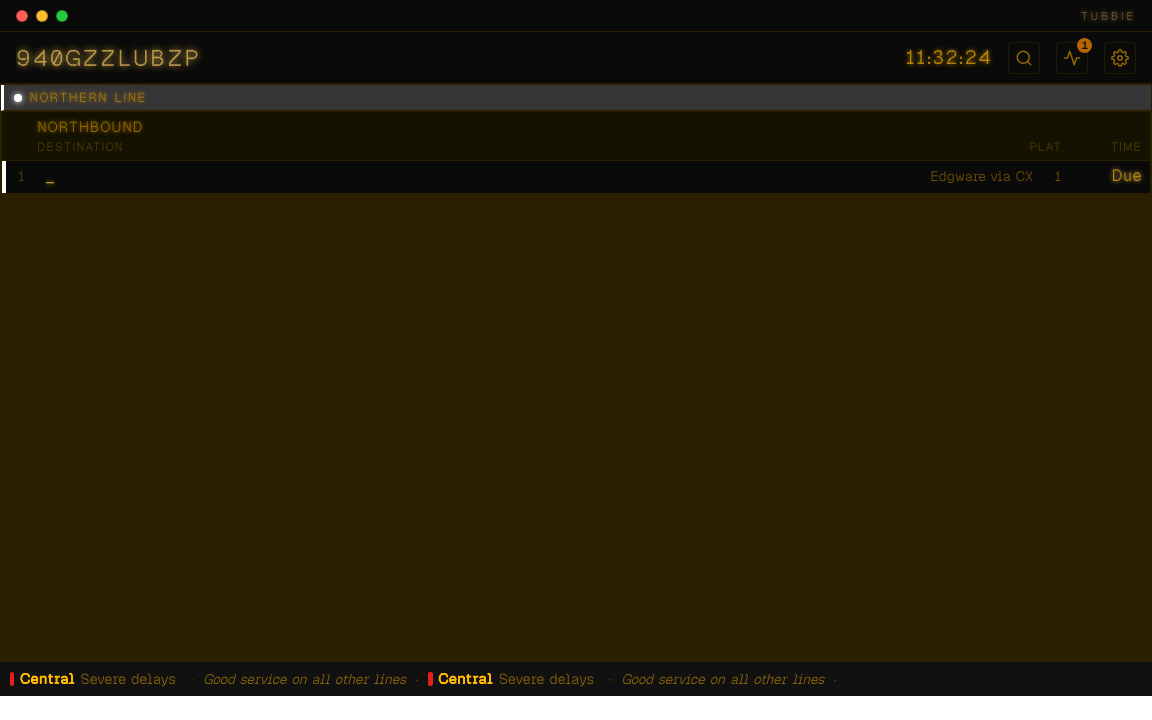
it: Board — Status view toggle › toggles the body from arrivals to the Status view and back
What coordinates should you click on to do the following:
click the button named "show service status"
I would click on:
 (1072, 58)
Its box is [1056,42,1088,74].
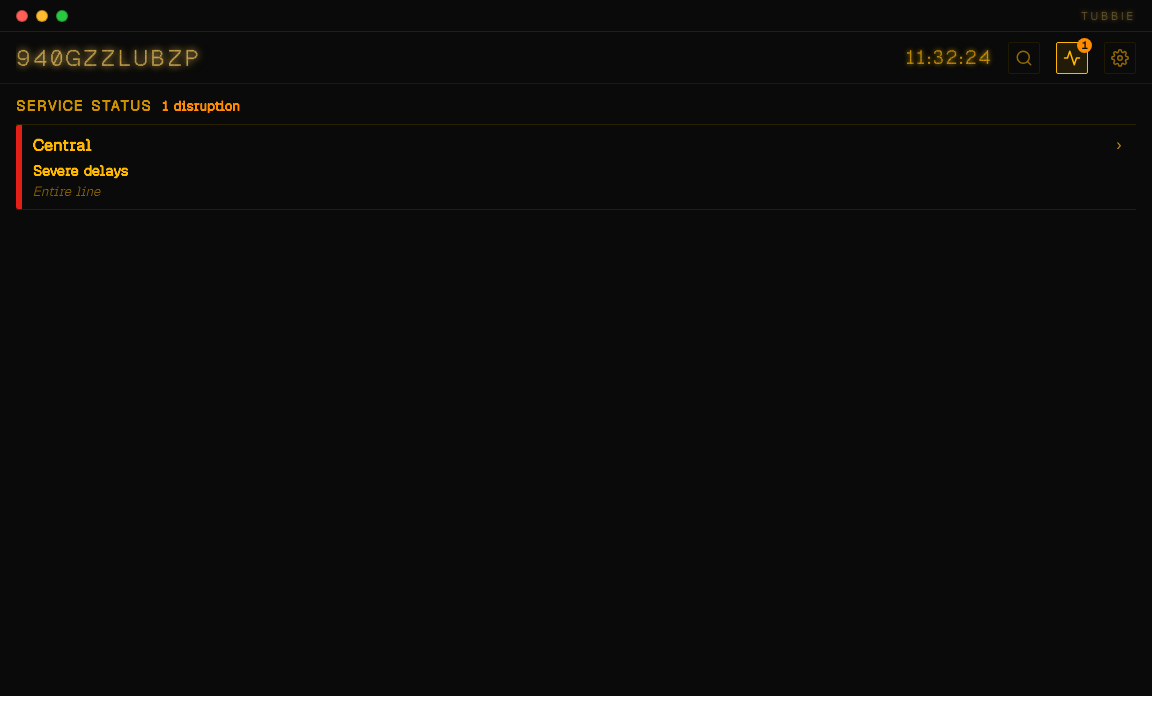
expect the element "Service status" is shown: met
# Toggle back.
What coordinates should you click on to do the following:
click the button named "hide service status"
I would click on:
 (1072, 58)
Its box is [1056,42,1088,74].
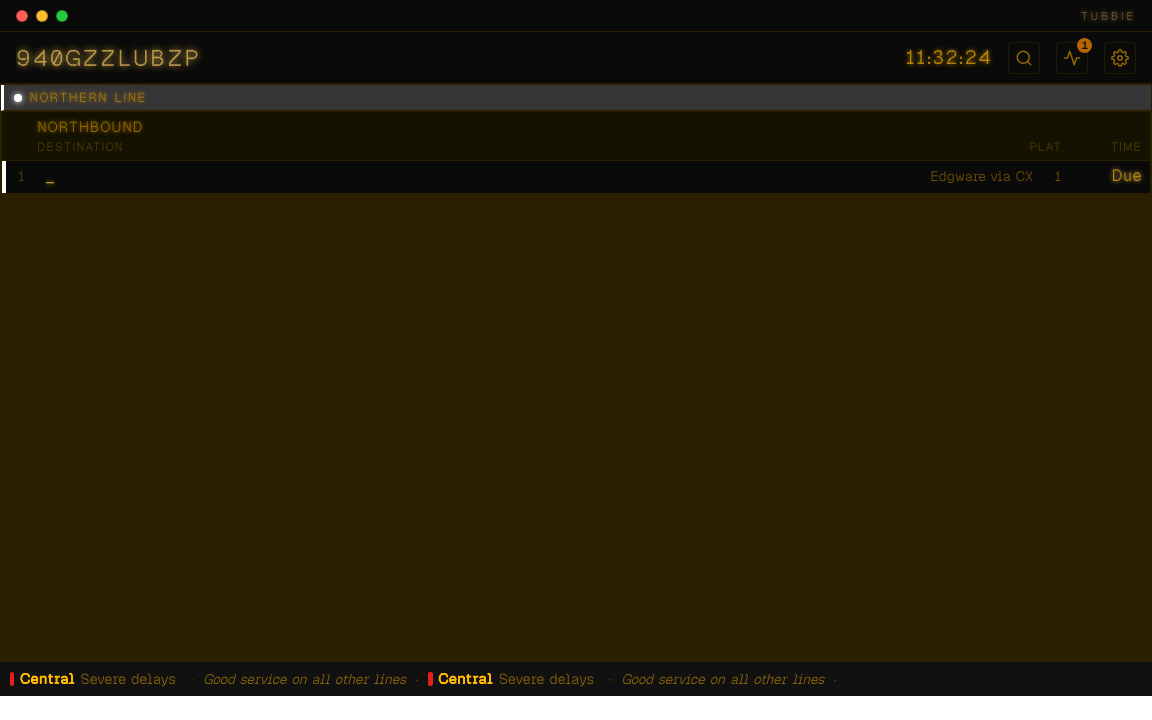
expect the element named "arrivals" is shown: met
